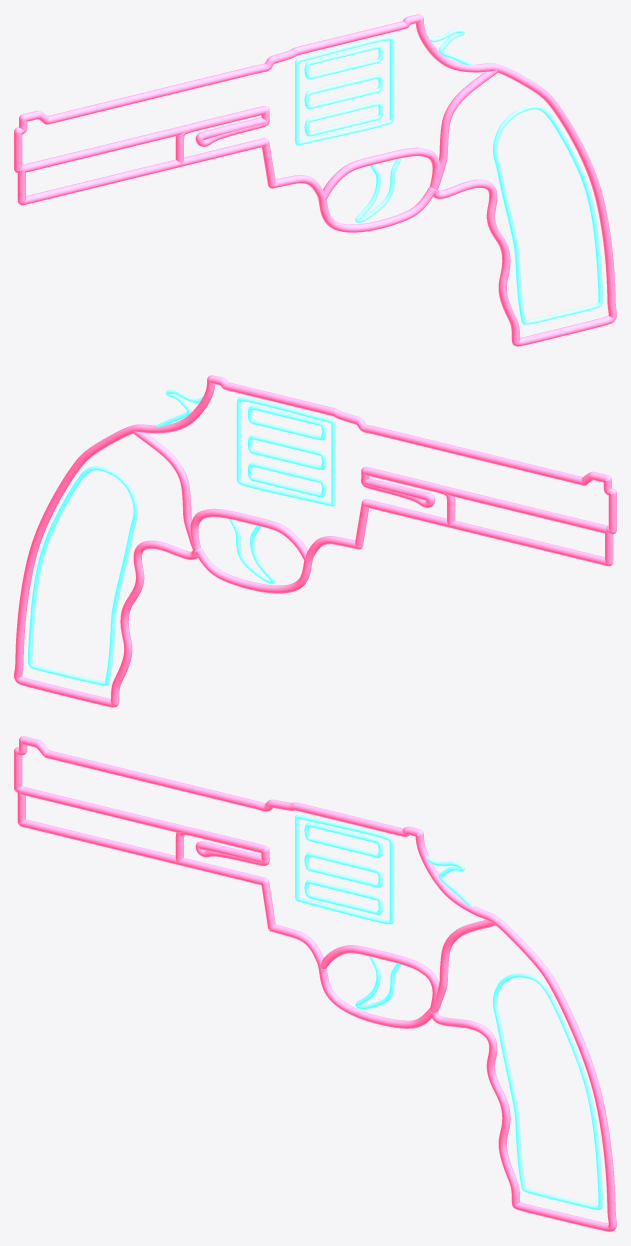
File: Revolver.fbx
3 renders of one model, top to bottom at view 1: azimuth 30°, elevation 25°; view 2: azimuth 150°, elevation 25°; view 3: azimuth 330°, elevation 25°, orthographic.
Parts seen in each view (by area): view 1: NurbsPath, NurbsPath.005; view 2: NurbsPath, NurbsPath.005; view 3: NurbsPath, NurbsPath.005.
Part boxes in pixels (x1,y1,x2,y2): NurbsPath: (14, 14, 616, 346); NurbsPath.005: (295, 28, 602, 324); NurbsPath: (14, 375, 616, 707); NurbsPath.005: (28, 389, 335, 685); NurbsPath: (14, 736, 616, 1231); NurbsPath.005: (295, 814, 602, 1209).
Bounding box in the file's own units: 499 × 282 × 6.
